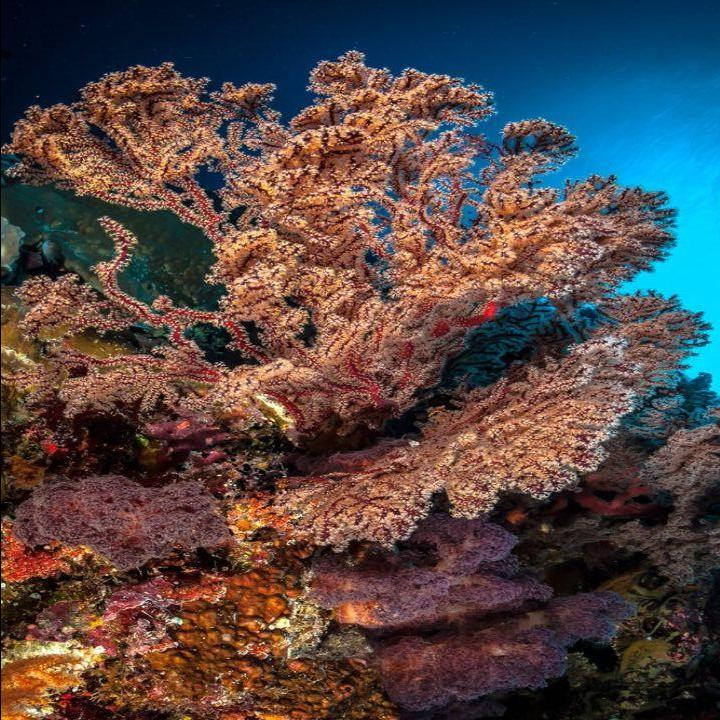Healthy Coral: (47, 55, 666, 706)
